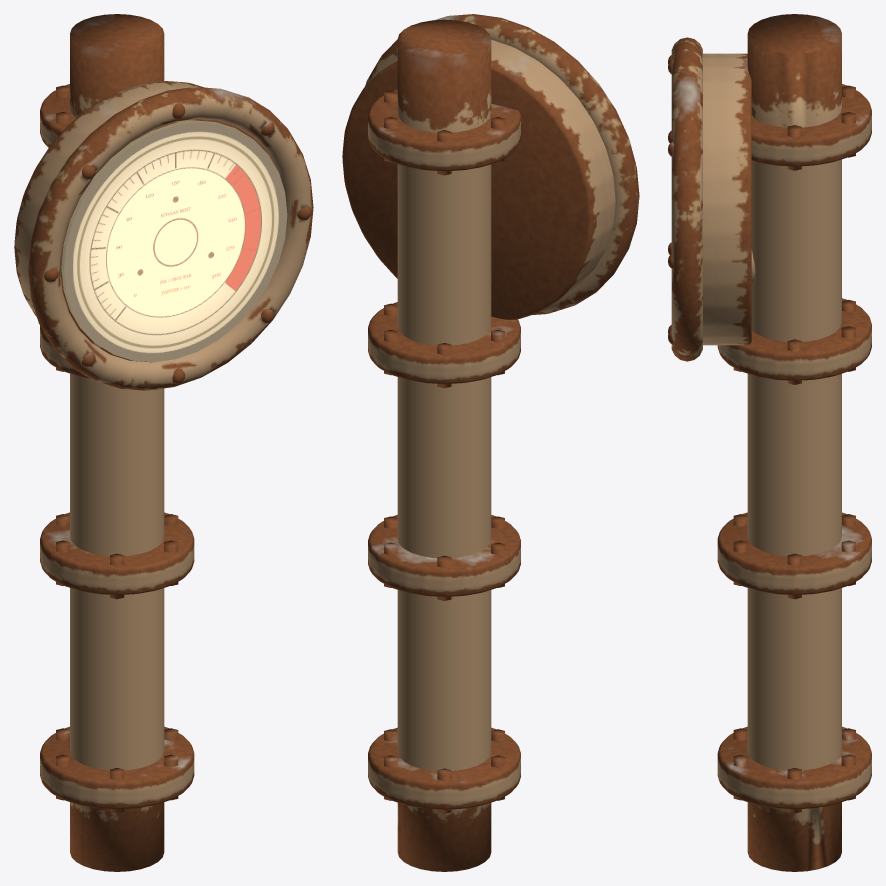
Rendered from mint-steam-manometer.glb.
3 views of the same model, side by side, from view 1: azimuth 30°, elevation 25°; view 2: azimuth 150°, elevation 25°; view 3: azimuth 270°, elevation 25° (orthographic).
Parts seen in each view (by area): view 1: SM_ManometerHousing, SM_ManometerDialFace; view 2: SM_ManometerHousing; view 3: SM_ManometerHousing.
Boxes of the visible parts, x1,y1,x2,y2 form: SM_ManometerHousing: (14,14,313,871); SM_ManometerDialFace: (61,120,287,362); SM_ManometerHousing: (342,14,639,871); SM_ManometerHousing: (668,14,871,871).
Size of the model in its own units: 1.51 by 4.2 by 0.949.
2 materials, 2 textured.
